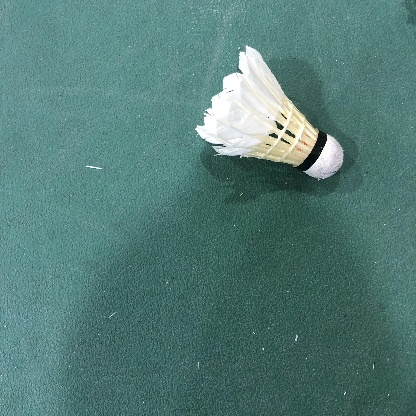ball_single: (195, 45, 343, 178)
